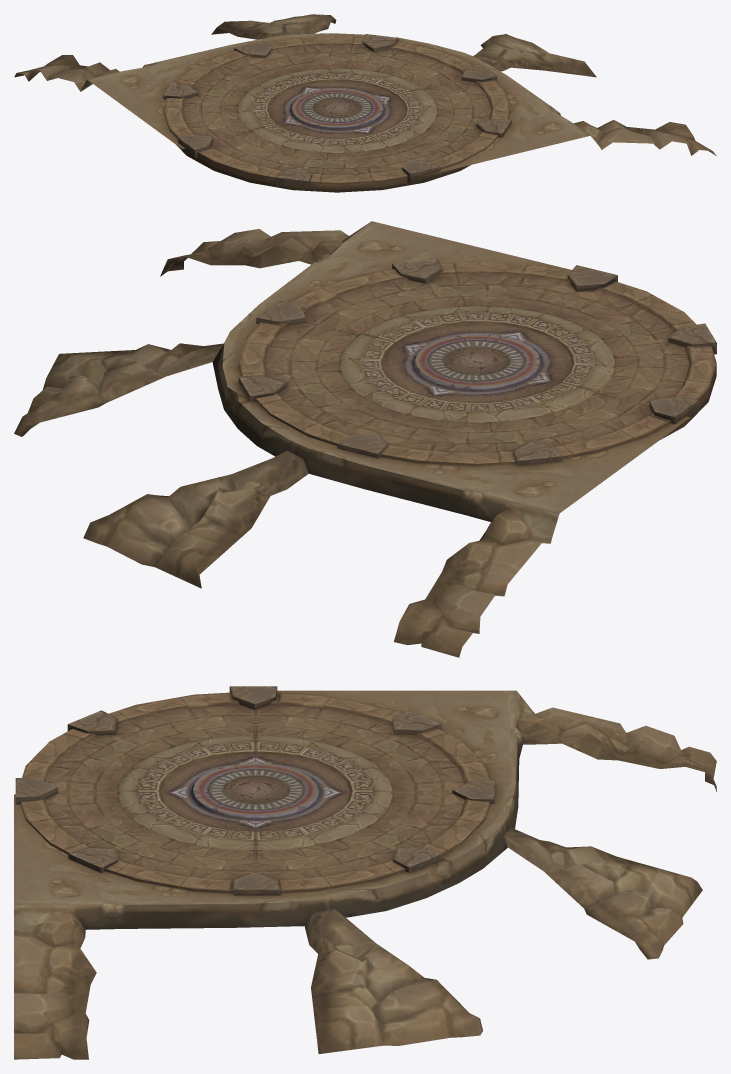
File: Altar05_Build_LostTemple_003.FBX
3 views of the same model, one above another, from view 1: azimuth 30°, elevation 25°; view 2: azimuth 150°, elevation 25°; view 3: azimuth 270°, elevation 25° (orthographic). The views are drawn at different scales.
Visible parts, largest first — view 1: Altar05_Build_LostTemple_003; view 2: Altar05_Build_LostTemple_003; view 3: Altar05_Build_LostTemple_003.
Boxes of the visible parts, x1,y1,x2,y2 form: Altar05_Build_LostTemple_003: (14, 14, 716, 192); Altar05_Build_LostTemple_003: (14, 221, 716, 657); Altar05_Build_LostTemple_003: (14, 686, 716, 1059).
Size of the model in its own units: 1367 by 166 by 1360.
1 material, 1 textured.
